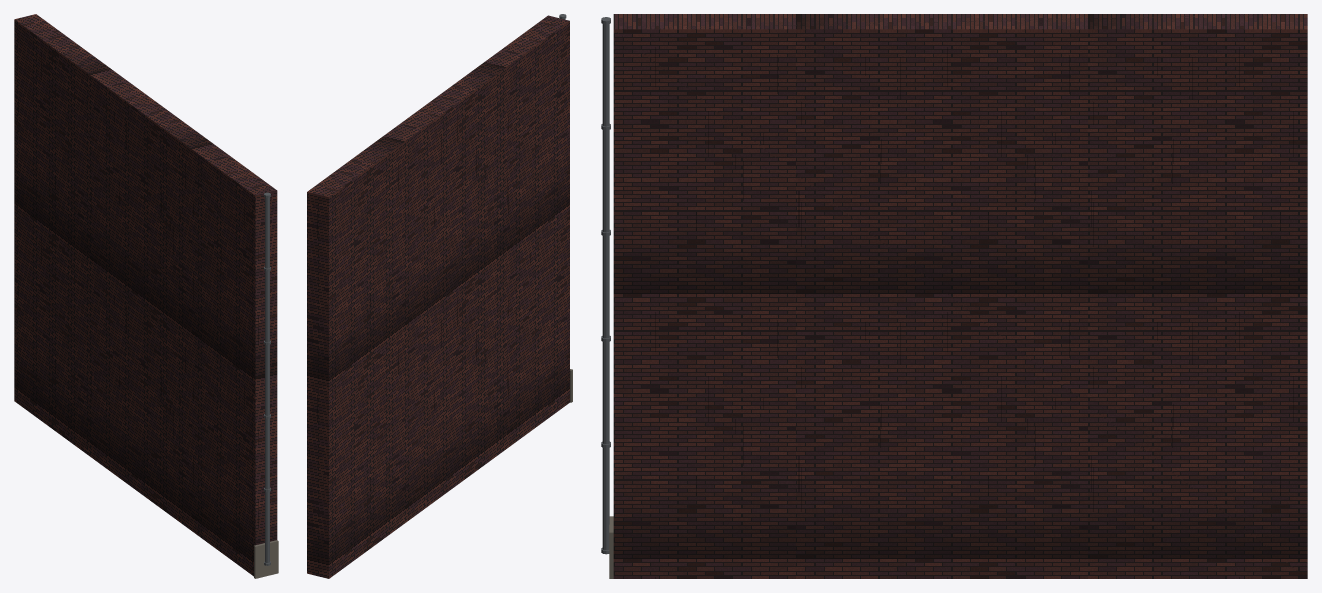
File: wall.glb
3 views of the same model, side by side, from view 1: azimuth 30°, elevation 25°; view 2: azimuth 150°, elevation 25°; view 3: azimuth 270°, elevation 25° (orthographic). The views are drawn at different scales.
Parts seen in each view (by area): view 1: wall; view 2: wall; view 3: wall.
Boxes of the visible parts, x1,y1,x2,y2 form: wall: (14,14,278,578); wall: (307,14,572,578); wall: (601,14,1307,578).
Size of the model in its own units: 0.53 by 8.32 by 9.67.
Materials: 3 (1 with a texture image).
